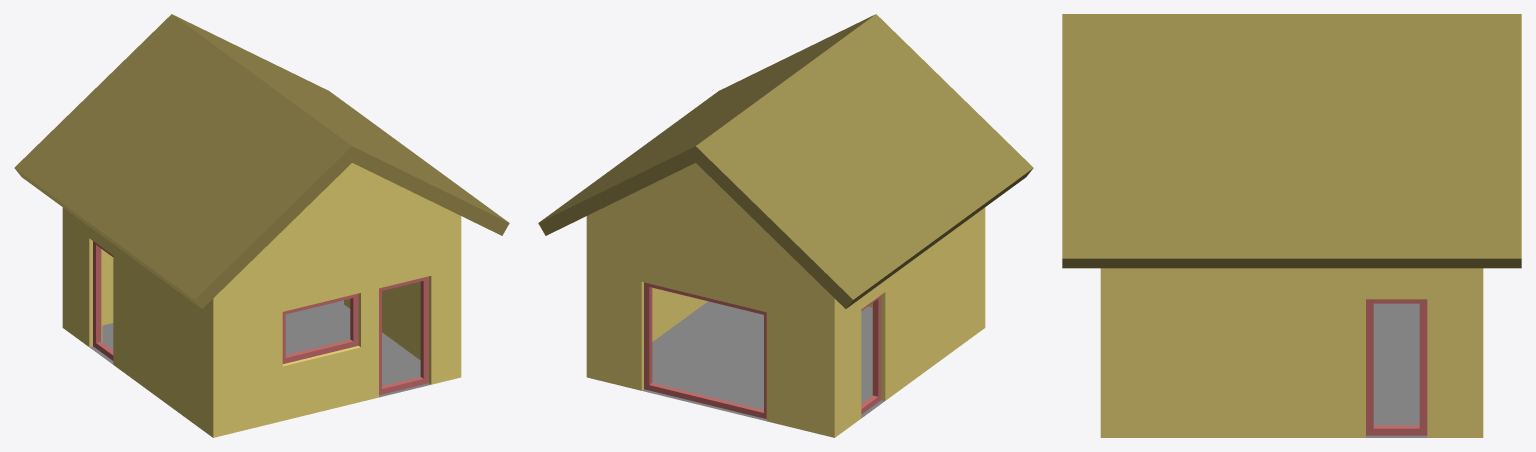
The model's file is result.glb.
The picture shows the model from 3 angles, left to right: view 1: azimuth 30°, elevation 25°; view 2: azimuth 150°, elevation 25°; view 3: azimuth 270°, elevation 25°; orthographic projection. The views are drawn at different scales.
Parts seen in each view (by area): view 1: 74019162-1bec-4d13-aaeb-8fdee1194c7f__undefined (×2), cae18aa3-1d1e-4bcf-8e52-370360a064e6__undefined, 7fcdc635-5bc6-440b-950f-dcc28760d1ff__Plane_6, bd7557c7-a52d-4351-8db3-0fca88ae2fd1__Box, e4804c3d-504a-4003-9b0e-ee85c8f68227__Box_3, fc087e24-5974-425f-9cd0-9508f594b779__Box_12; view 2: 74019162-1bec-4d13-aaeb-8fdee1194c7f__undefined (×2), cae18aa3-1d1e-4bcf-8e52-370360a064e6__undefined, 7fcdc635-5bc6-440b-950f-dcc28760d1ff__Plane_6, 6f306d05-5c3e-4fdf-9bf7-02332a20d15e__Box_9, fc087e24-5974-425f-9cd0-9508f594b779__Box_12; view 3: 74019162-1bec-4d13-aaeb-8fdee1194c7f__undefined, cae18aa3-1d1e-4bcf-8e52-370360a064e6__undefined, 7fcdc635-5bc6-440b-950f-dcc28760d1ff__Plane_6, 7684cb3a-b6b5-4fee-9ed3-ae0d15f328f5__Box_15.
Part boxes in pixels (box(x1,y1,x2,y2)): 74019162-1bec-4d13-aaeb-8fdee1194c7f__undefined (×2): box(14, 14, 509, 308); cae18aa3-1d1e-4bcf-8e52-370360a064e6__undefined: box(62, 163, 461, 437); 7fcdc635-5bc6-440b-950f-dcc28760d1ff__Plane_6: box(89, 300, 430, 397); bd7557c7-a52d-4351-8db3-0fca88ae2fd1__Box: box(379, 276, 428, 395); e4804c3d-504a-4003-9b0e-ee85c8f68227__Box_3: box(282, 293, 358, 363); fc087e24-5974-425f-9cd0-9508f594b779__Box_12: box(93, 241, 113, 360); 74019162-1bec-4d13-aaeb-8fdee1194c7f__undefined (×2): box(538, 14, 1033, 308); cae18aa3-1d1e-4bcf-8e52-370360a064e6__undefined: box(586, 163, 985, 437); 7fcdc635-5bc6-440b-950f-dcc28760d1ff__Plane_6: box(642, 301, 884, 421); 6f306d05-5c3e-4fdf-9bf7-02332a20d15e__Box_9: box(644, 282, 766, 418); fc087e24-5974-425f-9cd0-9508f594b779__Box_12: box(861, 295, 881, 414); 74019162-1bec-4d13-aaeb-8fdee1194c7f__undefined: box(1062, 14, 1521, 268); cae18aa3-1d1e-4bcf-8e52-370360a064e6__undefined: box(1100, 268, 1483, 437); 7fcdc635-5bc6-440b-950f-dcc28760d1ff__Plane_6: box(1366, 303, 1427, 437); 7684cb3a-b6b5-4fee-9ed3-ae0d15f328f5__Box_15: box(1366, 299, 1427, 435).
Size of the model in its own units: 605 by 500 by 600.
